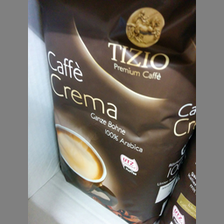coffee: (40, 1, 196, 224)
